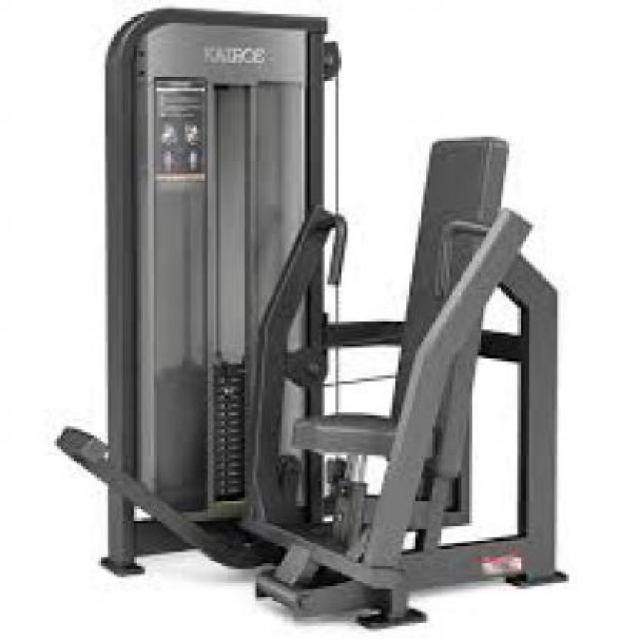Chest Press machine: (54, 5, 586, 637)
